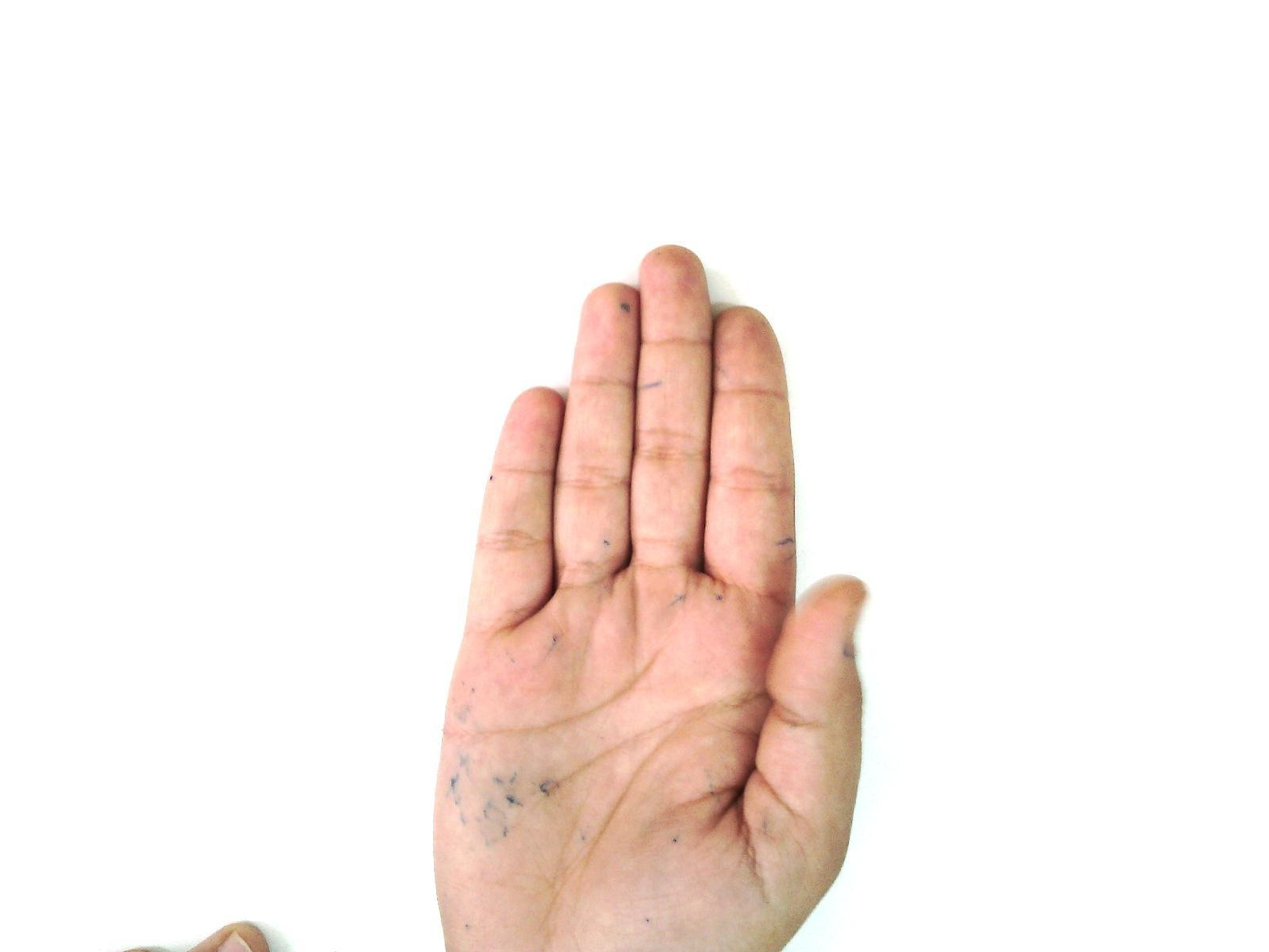open_palm: (429, 244, 872, 951)
